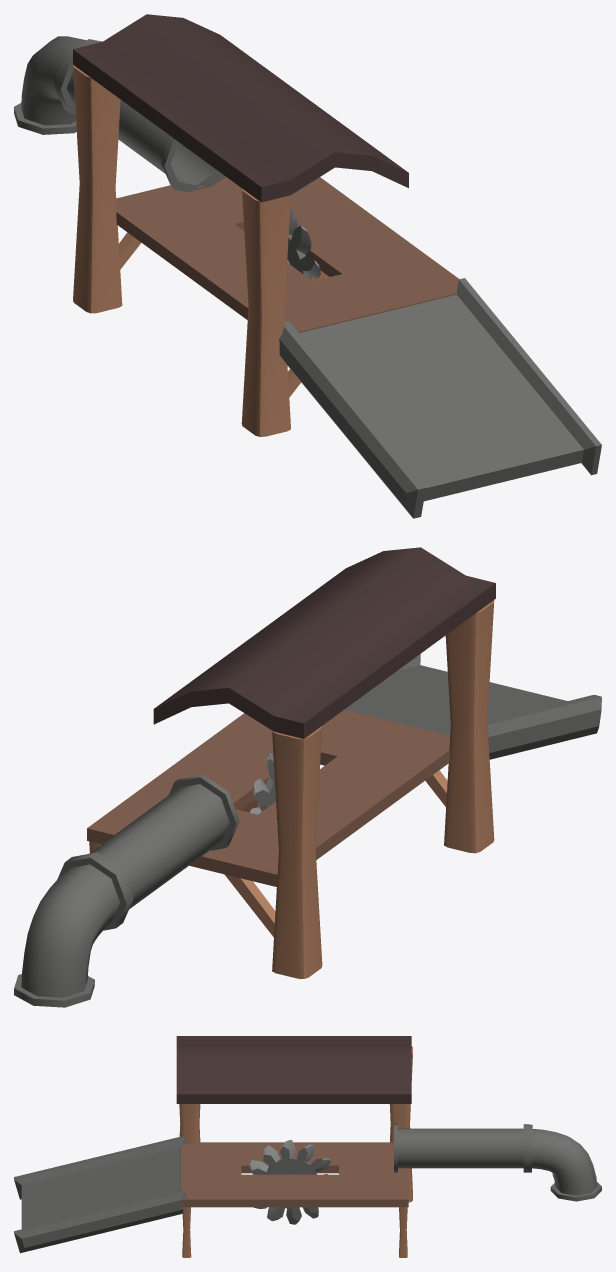
Rendered from Wood_cut_machine.fbx.
The picture shows the model from 3 angles, top to bottom: view 1: azimuth 30°, elevation 25°; view 2: azimuth 150°, elevation 25°; view 3: azimuth 270°, elevation 25°; orthographic projection. The views are drawn at different scales.
Parts seen in each view (by area): view 1: pCube44, pCube38, pCube39, pCube37, pCube36, Boru2, Boru, Testere; view 2: pCube38, pCube39, pCube44, Boru, pCube36, pCube37, Boru2, pCube42, Testere; view 3: pCube38, pCube39, pCube44, Boru2, Boru, Testere, pCube36, pCube37, pCube43, pCube40.
Part boxes in pixels (x1,y1,x2,y2): pCube44: (279, 278, 601, 518); pCube38: (73, 14, 408, 202); pCube39: (116, 176, 459, 332); pCube37: (241, 188, 290, 436); pCube36: (73, 65, 122, 313); Boru2: (57, 41, 225, 192); Boru: (14, 36, 102, 134); Testere: (287, 207, 320, 279); pCube38: (153, 547, 495, 738); pCube39: (87, 709, 450, 886); pCube44: (344, 654, 601, 759); Boru: (14, 854, 130, 1007); pCube36: (272, 726, 322, 978); pCube37: (444, 600, 494, 853); Boru2: (69, 774, 239, 924); pCube42: (224, 874, 275, 937); Testere: (249, 753, 275, 814); pCube38: (176, 1036, 411, 1103); pCube39: (181, 1142, 408, 1207); pCube44: (14, 1136, 186, 1253); Boru2: (394, 1124, 527, 1172); Boru: (527, 1124, 601, 1201); Testere: (248, 1140, 331, 1224); pCube36: (389, 1046, 412, 1202); pCube37: (179, 1104, 200, 1143); pCube43: (399, 1207, 407, 1257); pCube40: (182, 1207, 191, 1257).
Size of the model in its own units: 7.45 by 8.76 by 27.94.
